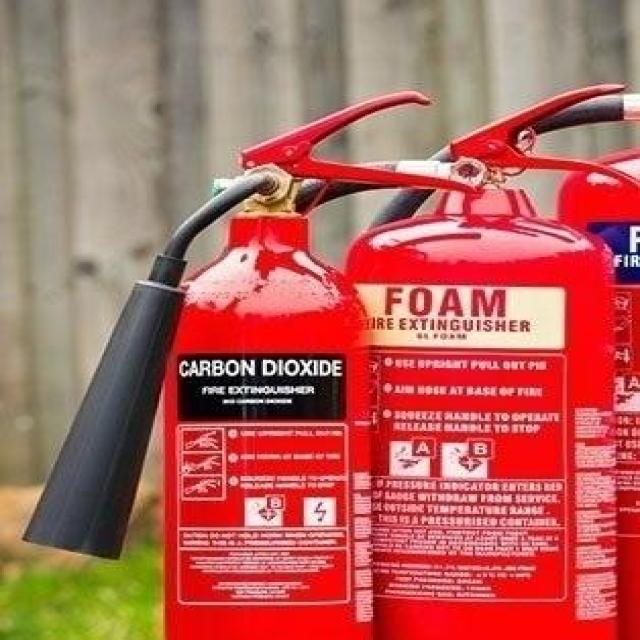fire_extinguisher: (12, 83, 489, 638), (212, 75, 638, 638), (442, 81, 638, 638)
